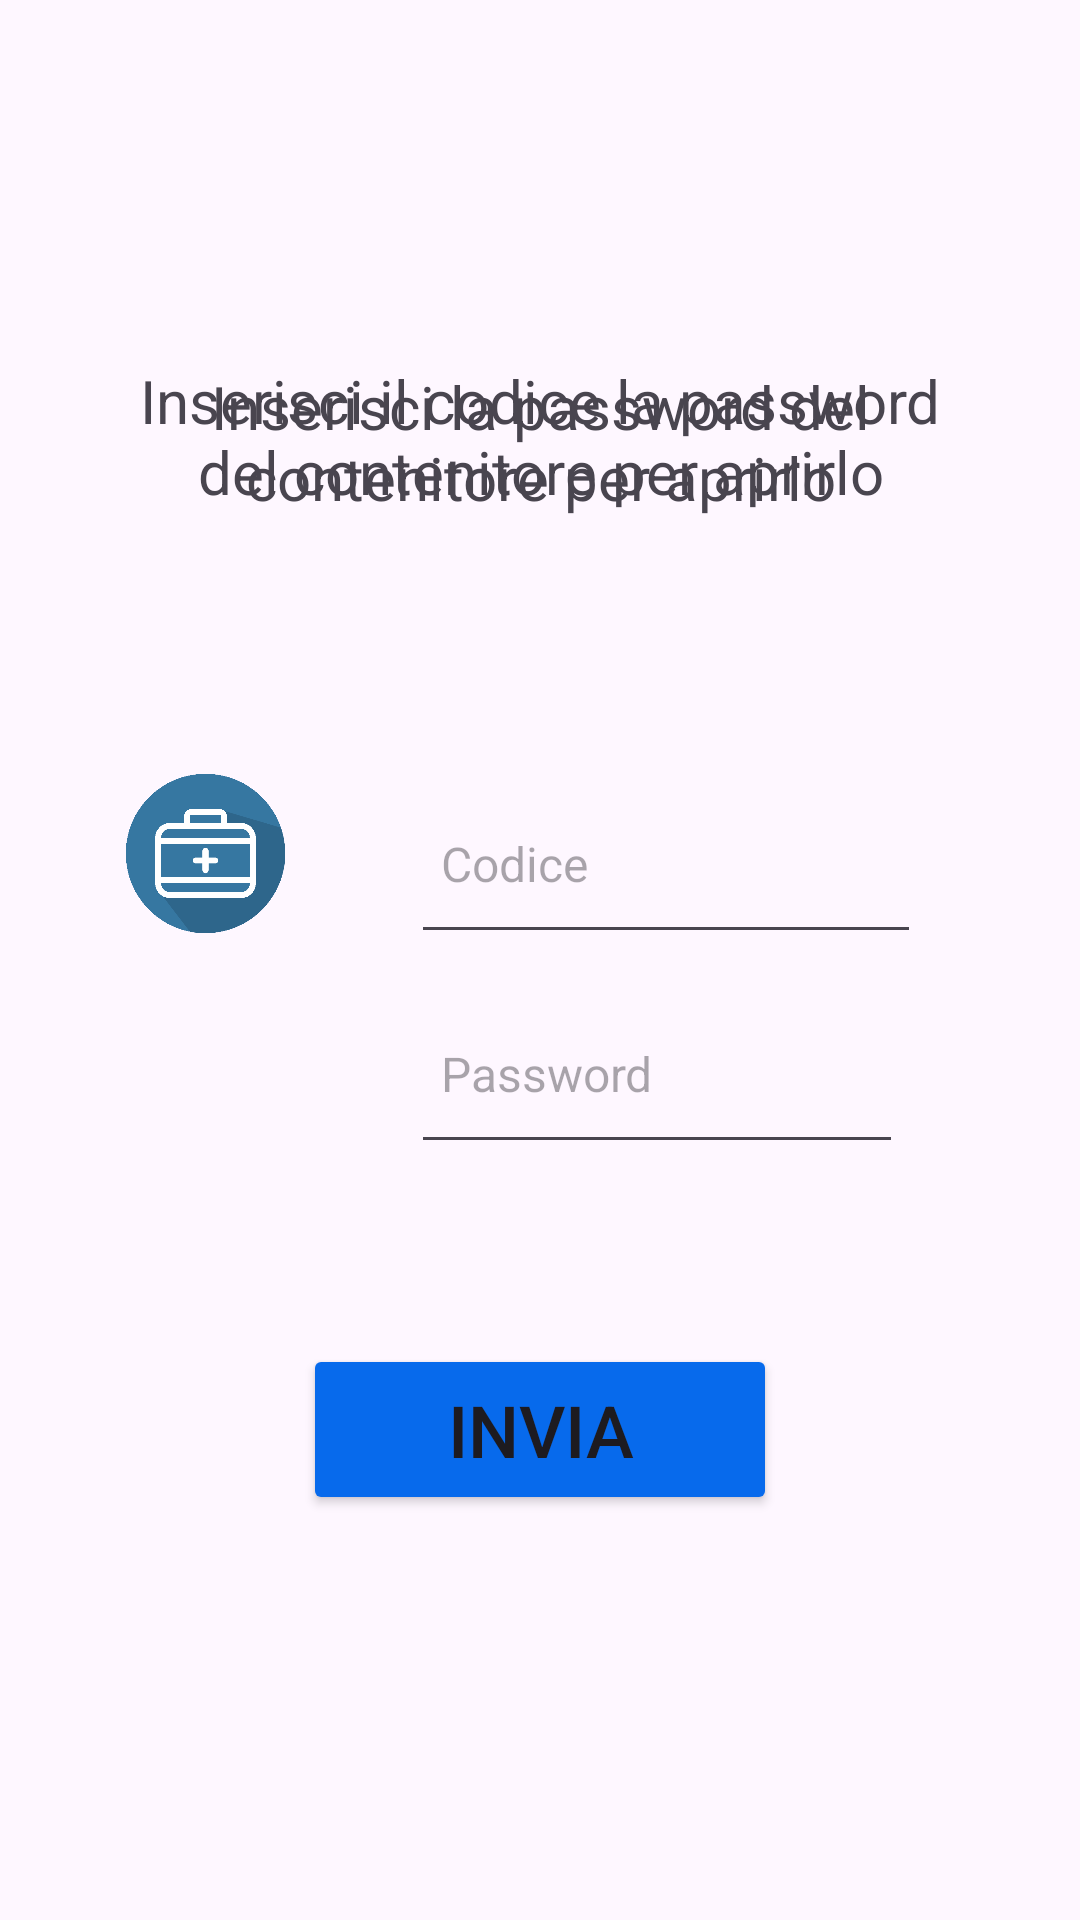

Icons on this 1080px×1920px Android screen, each with its box as (x1=x1, y1=y1, x2=x2, y2=y2):
biomedical: (x1=126, y1=774, x2=285, y2=933)
